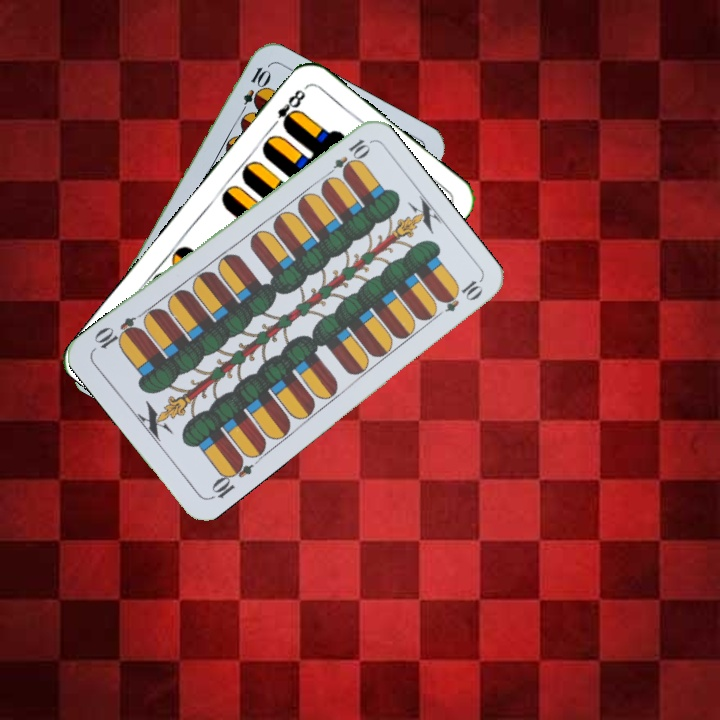E10: (206, 453, 256, 502), (321, 135, 372, 182), (235, 63, 272, 119)
E8: (266, 85, 308, 132)
